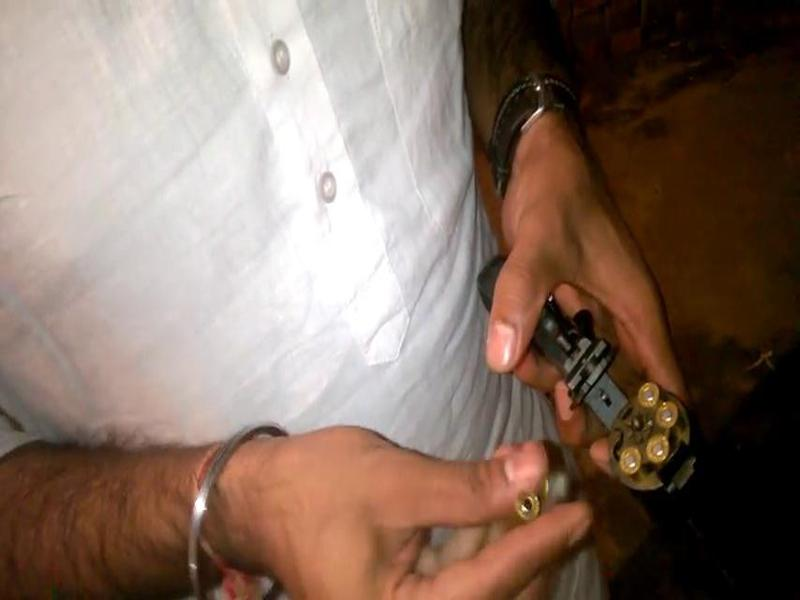Revolver: (446, 225, 771, 579)
